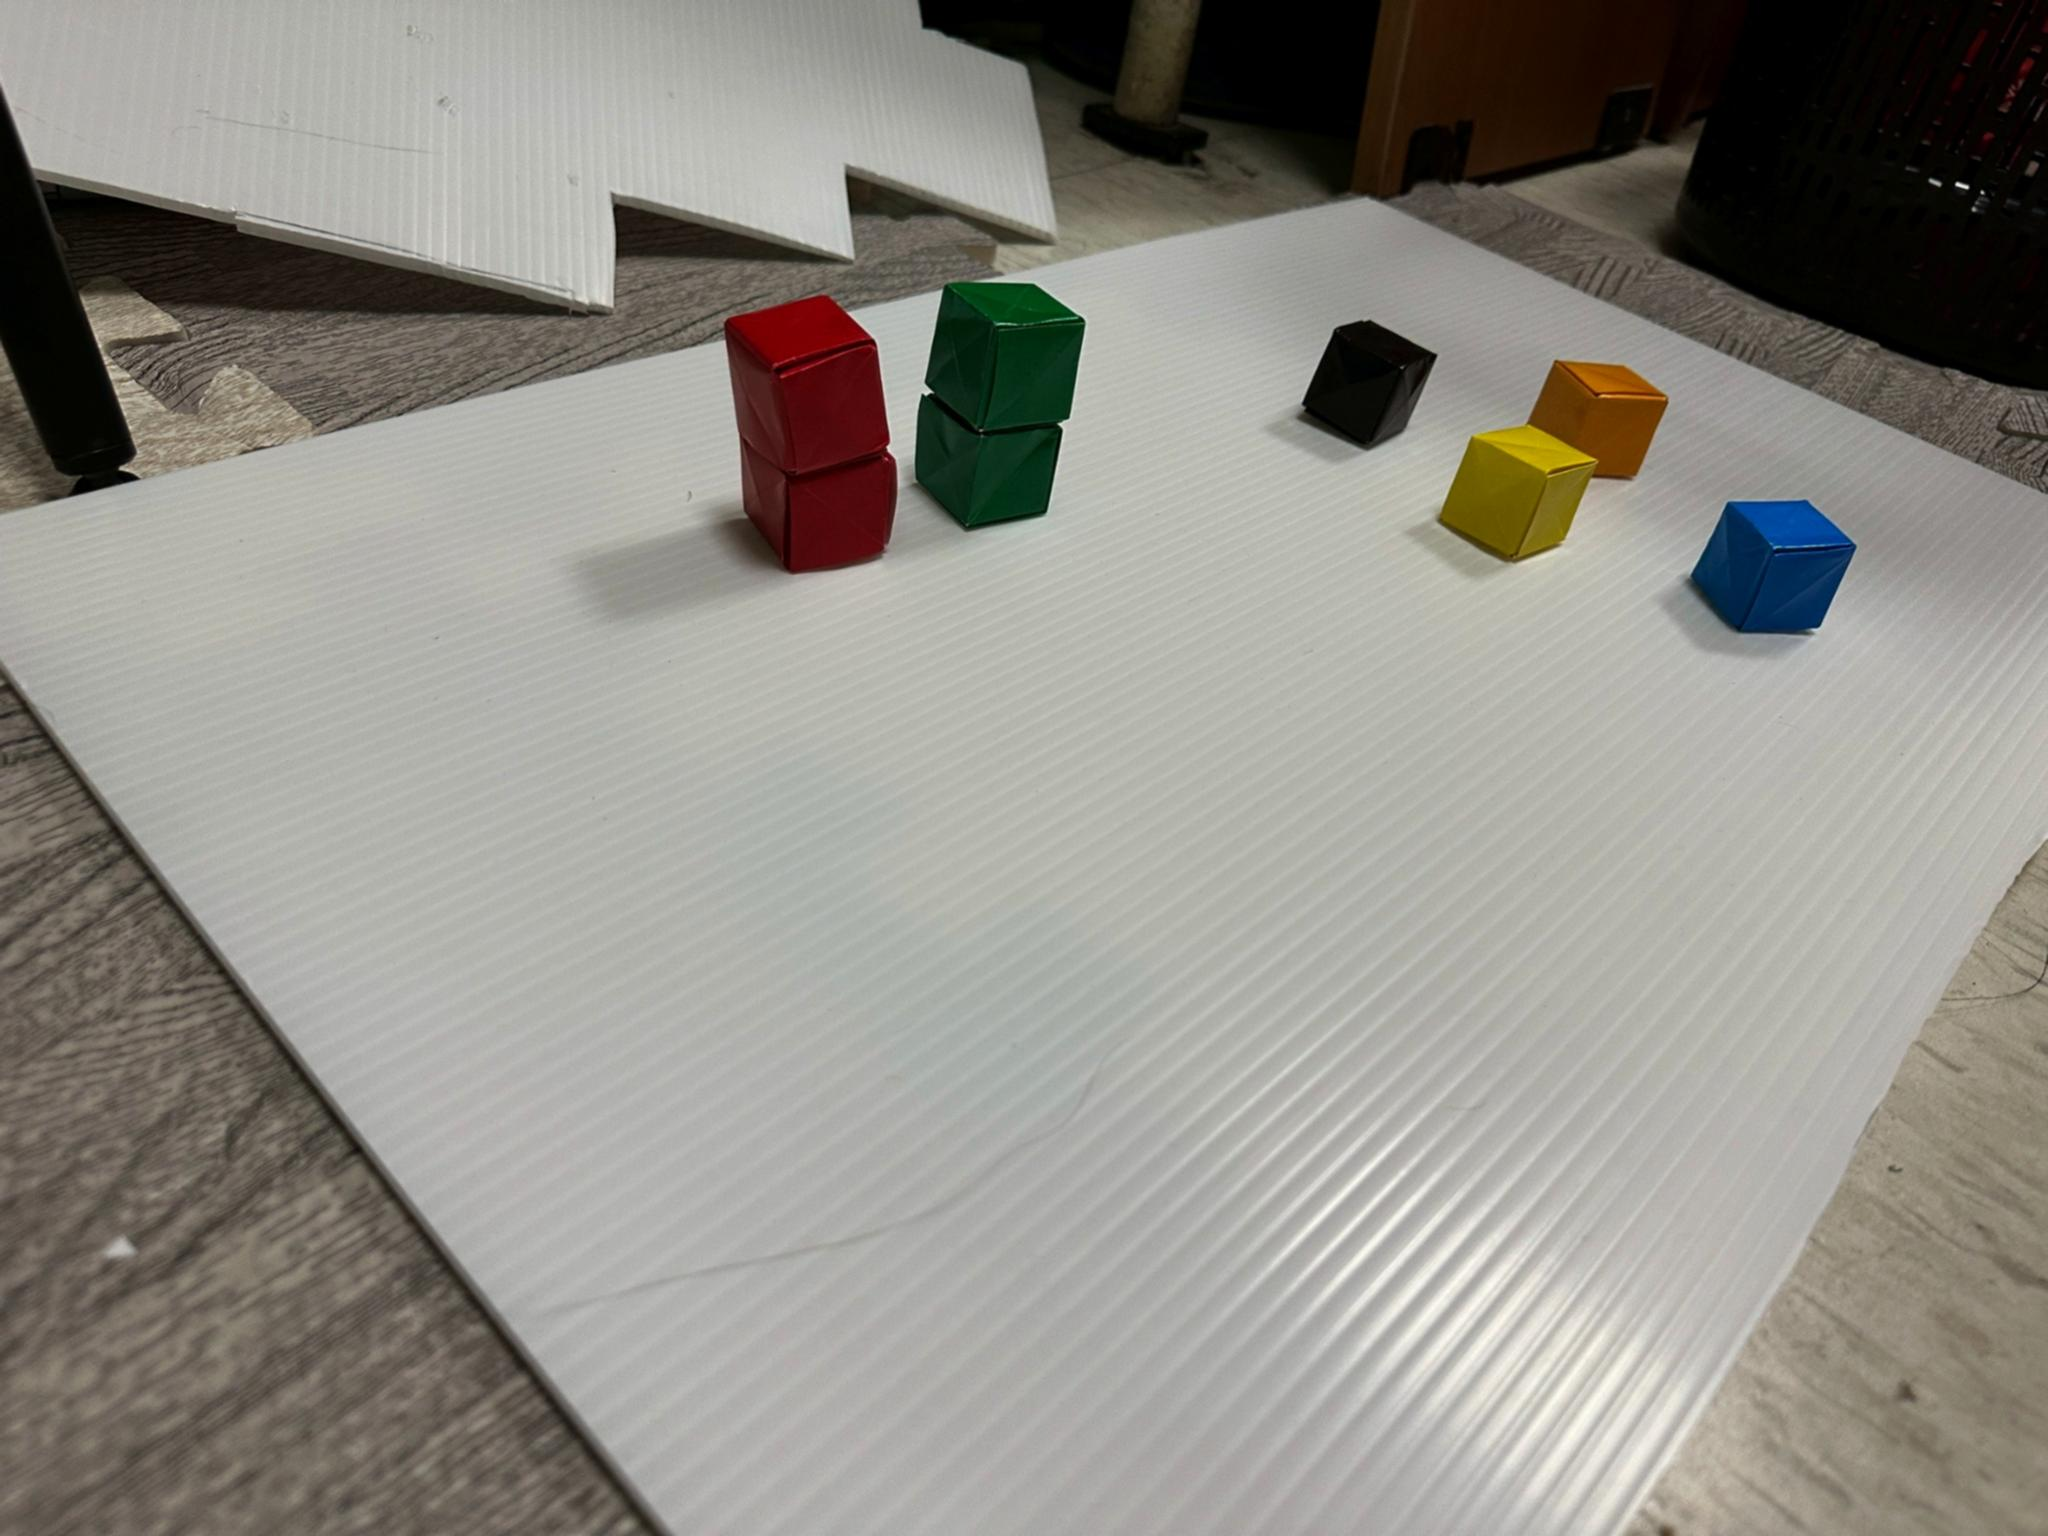base: (726, 297, 889, 474), (927, 282, 1085, 431), (1692, 500, 1854, 634), (740, 437, 897, 573), (1440, 426, 1598, 558), (916, 397, 1061, 526), (1303, 321, 1437, 444), (1529, 360, 1667, 478)
